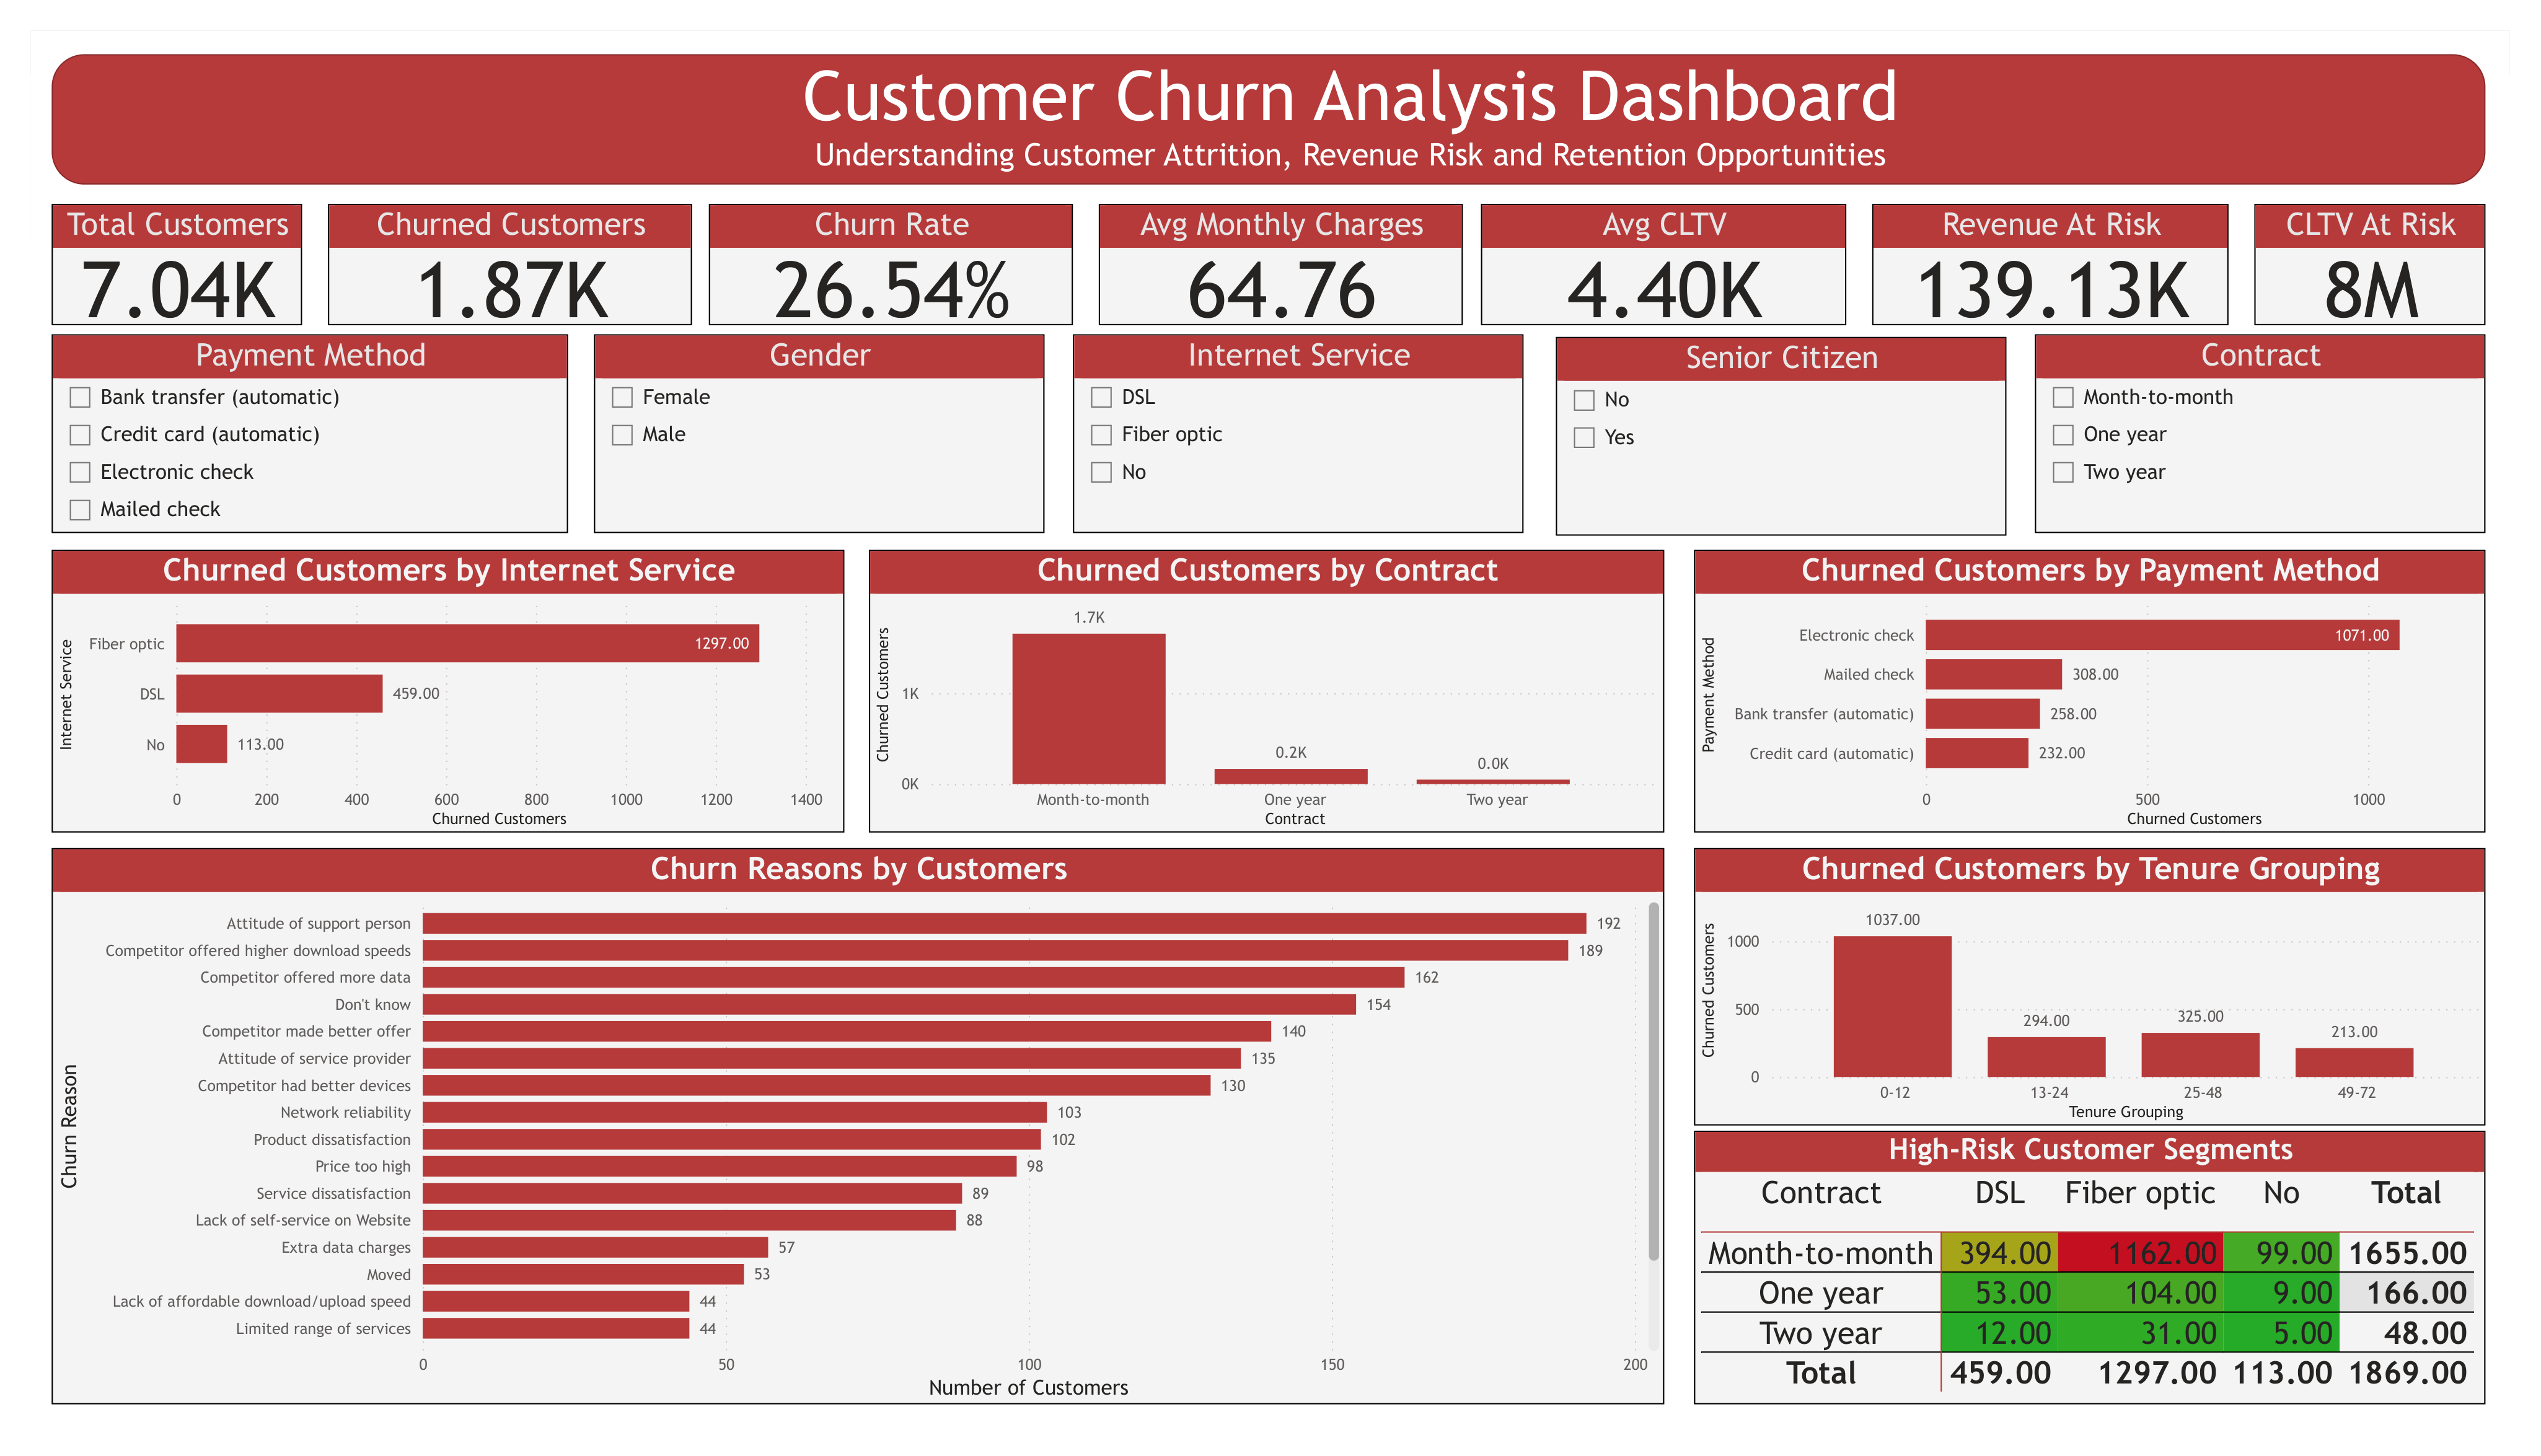

What the dashboard file says about the page in this screenshot:
{"tool":"powerbi","page":{"name":"Page 1","canvas":[1920,1080],"ordinal":0},"visuals":[{"type":"card","title":"Total Customers","fields":{"Values":["clean_telco_churn.Total Customers"]},"box":[16.3,133.9,193.6,94.1],"z":0},{"type":"card","title":"Churned Customers","fields":{"Values":["clean_telco_churn.Churned Customers"]},"box":[229.7,133.9,282.2,94.1],"z":1000},{"type":"card","title":"Churn Rate","fields":{"Values":["clean_telco_churn.Churn Rate"]},"box":[524.6,133.9,282.2,94.1],"z":2000},{"type":"card","title":"Avg Monthly Charges","fields":{"Values":["clean_telco_churn.Avg Monthly Charges"]},"box":[826.7,133.9,282.2,94.1],"z":3000},{"type":"card","title":"Avg CLTV","fields":{"Values":["clean_telco_churn.Avg CLTV"]},"box":[1123.4,133.9,282.2,94.1],"z":4000},{"type":"card","title":"Revenue At Risk","fields":{"Values":["clean_telco_churn.Revenue At Risk"]},"box":[1425.5,133.9,276.8,94.1],"z":5000},{"type":"card","title":"CLTV At Risk","fields":{"Values":["clean_telco_churn.CLTV At Risk"]},"box":[1722.2,133.9,179.1,94.1],"z":6000},{"type":"clusteredColumnChart","fields":{"Category":["clean_telco_churn.Contract"],"Y":["clean_telco_churn.Churned Customers"]},"box":[649.4,401.6,615.1,218.9],"z":7000},{"type":"clusteredBarChart","fields":{"Category":["clean_telco_churn.Internet Service"],"Y":["clean_telco_churn.Churned Customers"]},"box":[16.3,401.6,613.3,218.9],"z":8000},{"type":"clusteredBarChart","fields":{"Category":["clean_telco_churn.Payment Method"],"Y":["clean_telco_churn.Churned Customers"]},"box":[1288,401.6,613.3,218.9],"z":9000},{"type":"barChart","title":"Churn Reasons by Customers","fields":{"Category":["clean_telco_churn.Churn Reason"],"Y":["CountNonNull(clean_telco_churn.CustomerID)"]},"box":[16.3,633.2,1248.2,430.6],"z":10000},{"type":"slicer","title":"Gender","fields":{"Values":["clean_telco_churn.Gender"]},"box":[436,235.2,349.1,153.8],"z":11000},{"type":"slicer","title":"Senior Citizen","fields":{"Values":["clean_telco_churn.Senior Citizen"]},"box":[1181.3,237,349.1,153.8],"z":12000},{"type":"slicer","title":"Payment Method","fields":{"Values":["clean_telco_churn.Payment Method"]},"box":[16.3,235.2,399.8,153.8],"z":13000},{"type":"slicer","title":"Contract","fields":{"Values":["clean_telco_churn.Contract"]},"box":[1552.2,235.2,349.1,153.8],"z":14000},{"type":"slicer","title":"Internet Service","fields":{"Values":["clean_telco_churn.Internet Service"]},"box":[806.8,235.2,349.1,153.8],"z":15000},{"type":"clusteredColumnChart","fields":{"Category":["clean_telco_churn.Tenure Grouping"],"Y":["clean_telco_churn.Churned Customers"]},"box":[1288,633.2,613.3,215.3],"z":16000},{"type":"pivotTable","title":"High-Risk Customer Segments","fields":{"Rows":["clean_telco_churn.Contract"],"Columns":["clean_telco_churn.Internet Service"],"Values":["clean_telco_churn.Churned Customers"]},"box":[1288,852.1,613.3,211.7],"z":17000},{"type":"shape","box":[16.3,18.1,1885,101.3],"z":18000},{"type":"textbox","box":[584.3,14.5,875.6,108.5],"z":19000}]}

Visuals, with their boxes in screenshot pixels (x1, y1, x2, y2):
"Total Customers" card: pyautogui.locateOnScreen(21, 195, 274, 317)
"Churned Customers" card: pyautogui.locateOnScreen(300, 195, 668, 317)
"Churn Rate" card: pyautogui.locateOnScreen(685, 195, 1053, 317)
"Avg Monthly Charges" card: pyautogui.locateOnScreen(1079, 195, 1447, 317)
"Avg CLTV" card: pyautogui.locateOnScreen(1466, 195, 1834, 317)
"Revenue At Risk" card: pyautogui.locateOnScreen(1861, 195, 2222, 317)
"CLTV At Risk" card: pyautogui.locateOnScreen(2248, 195, 2482, 317)
clusteredColumnChart - clean_telco_churn.Contract x clean_telco_churn.Churned Customers: pyautogui.locateOnScreen(848, 544, 1650, 830)
clusteredBarChart - clean_telco_churn.Internet Service x clean_telco_churn.Churned Customers: pyautogui.locateOnScreen(21, 544, 822, 830)
clusteredBarChart - clean_telco_churn.Payment Method x clean_telco_churn.Churned Customers: pyautogui.locateOnScreen(1681, 544, 2482, 830)
"Churn Reasons by Customers" barChart: pyautogui.locateOnScreen(21, 846, 1650, 1408)
"Gender" slicer: pyautogui.locateOnScreen(569, 327, 1024, 527)
"Senior Citizen" slicer: pyautogui.locateOnScreen(1542, 329, 1997, 530)
"Payment Method" slicer: pyautogui.locateOnScreen(21, 327, 543, 527)
"Contract" slicer: pyautogui.locateOnScreen(2026, 327, 2482, 527)
"Internet Service" slicer: pyautogui.locateOnScreen(1053, 327, 1508, 527)
clusteredColumnChart - clean_telco_churn.Tenure Grouping x clean_telco_churn.Churned Customers: pyautogui.locateOnScreen(1681, 846, 2482, 1127)
"High-Risk Customer Segments" pivotTable: pyautogui.locateOnScreen(1681, 1131, 2482, 1408)
shape: pyautogui.locateOnScreen(21, 43, 2482, 175)
textbox: pyautogui.locateOnScreen(762, 39, 1905, 180)
